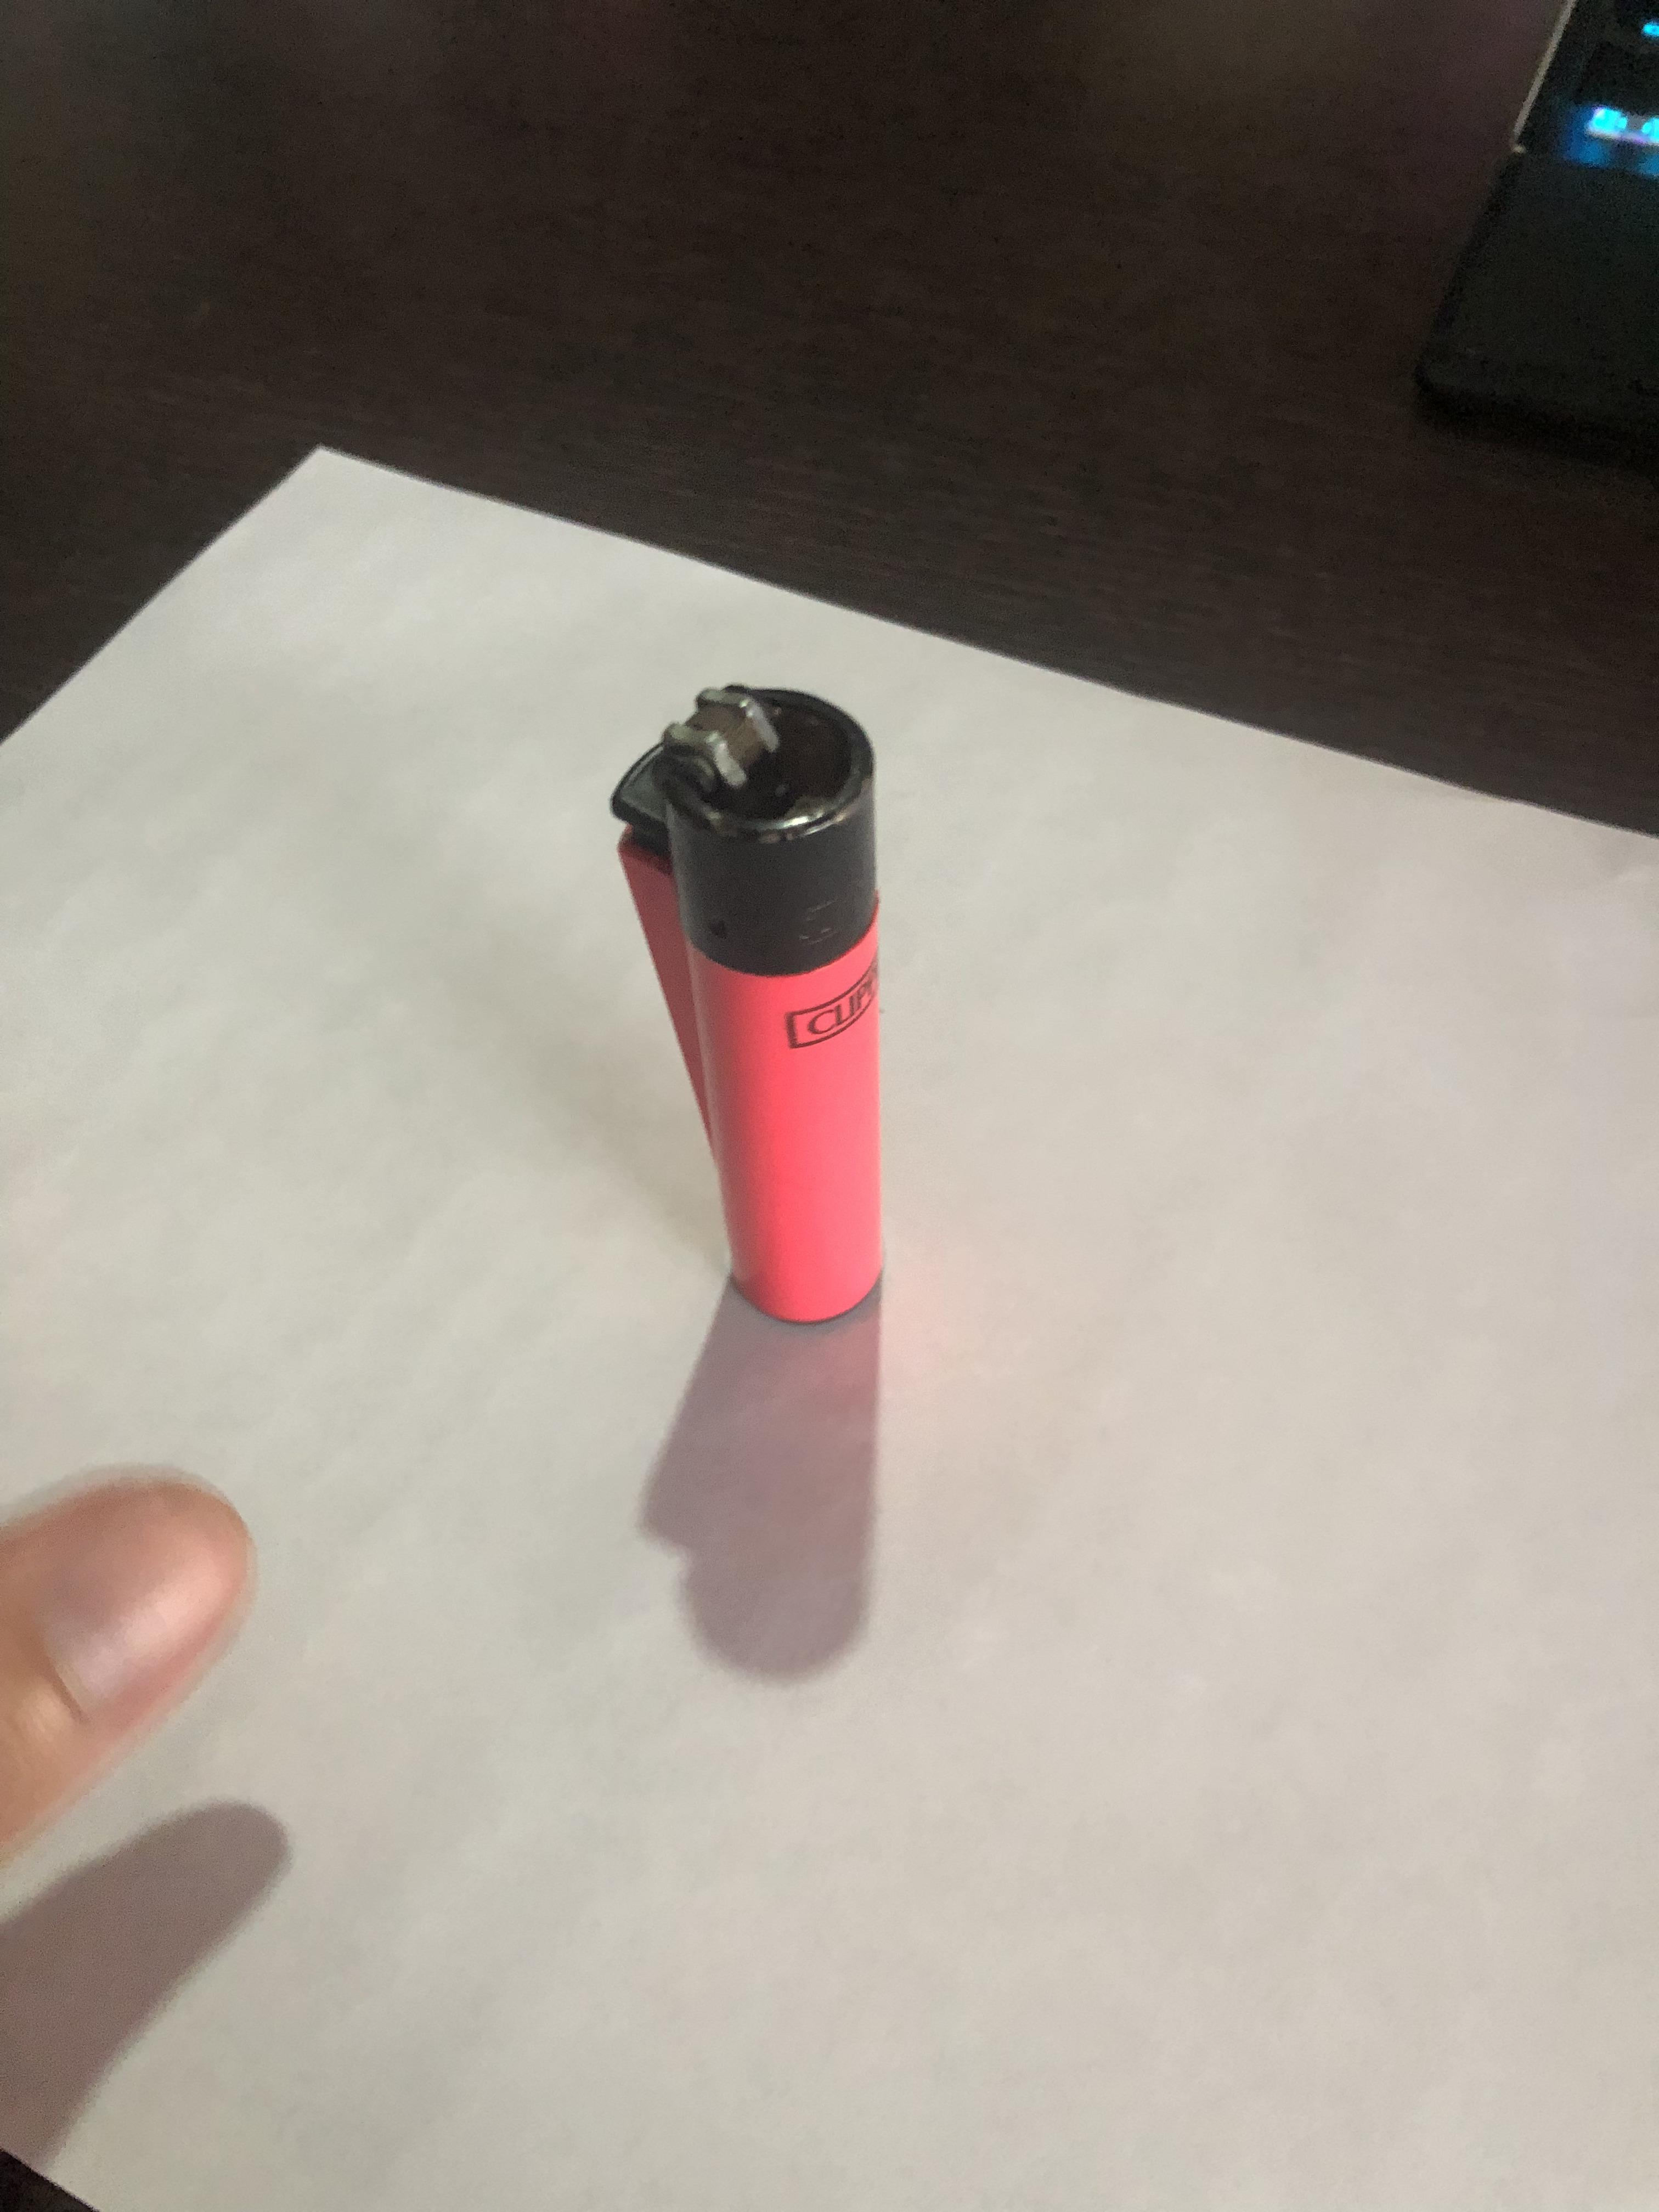Mechero: (592, 693, 945, 1336)
